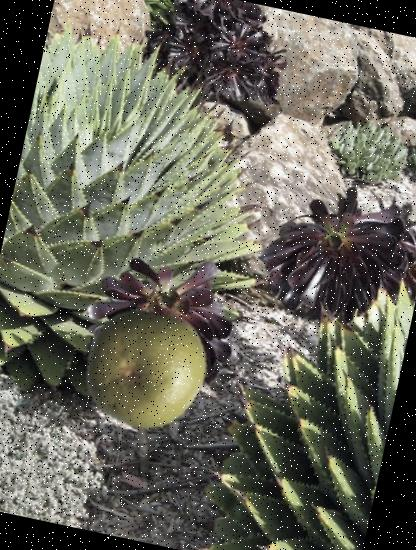Pomelo: (74, 298, 218, 442)
